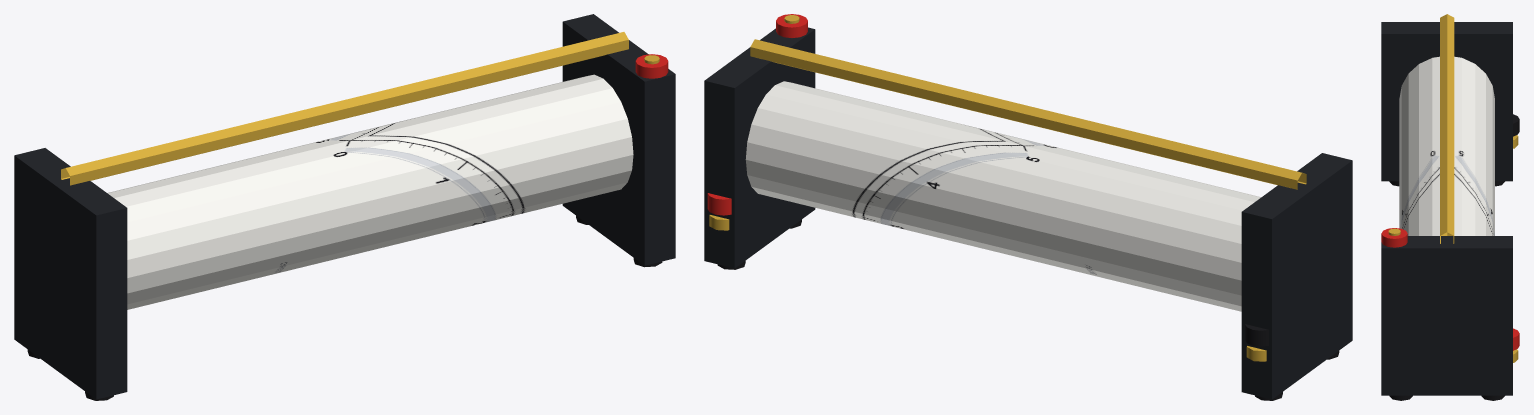
File: Rheostat_Lab_Pro.obj
The picture shows the model from 3 angles, left to right: view 1: azimuth 30°, elevation 25°; view 2: azimuth 150°, elevation 25°; view 3: azimuth 270°, elevation 25°; orthographic projection. The views are drawn at different scales.
Size of the model in its own units: 0.224 by 0.0765 by 0.0577.
